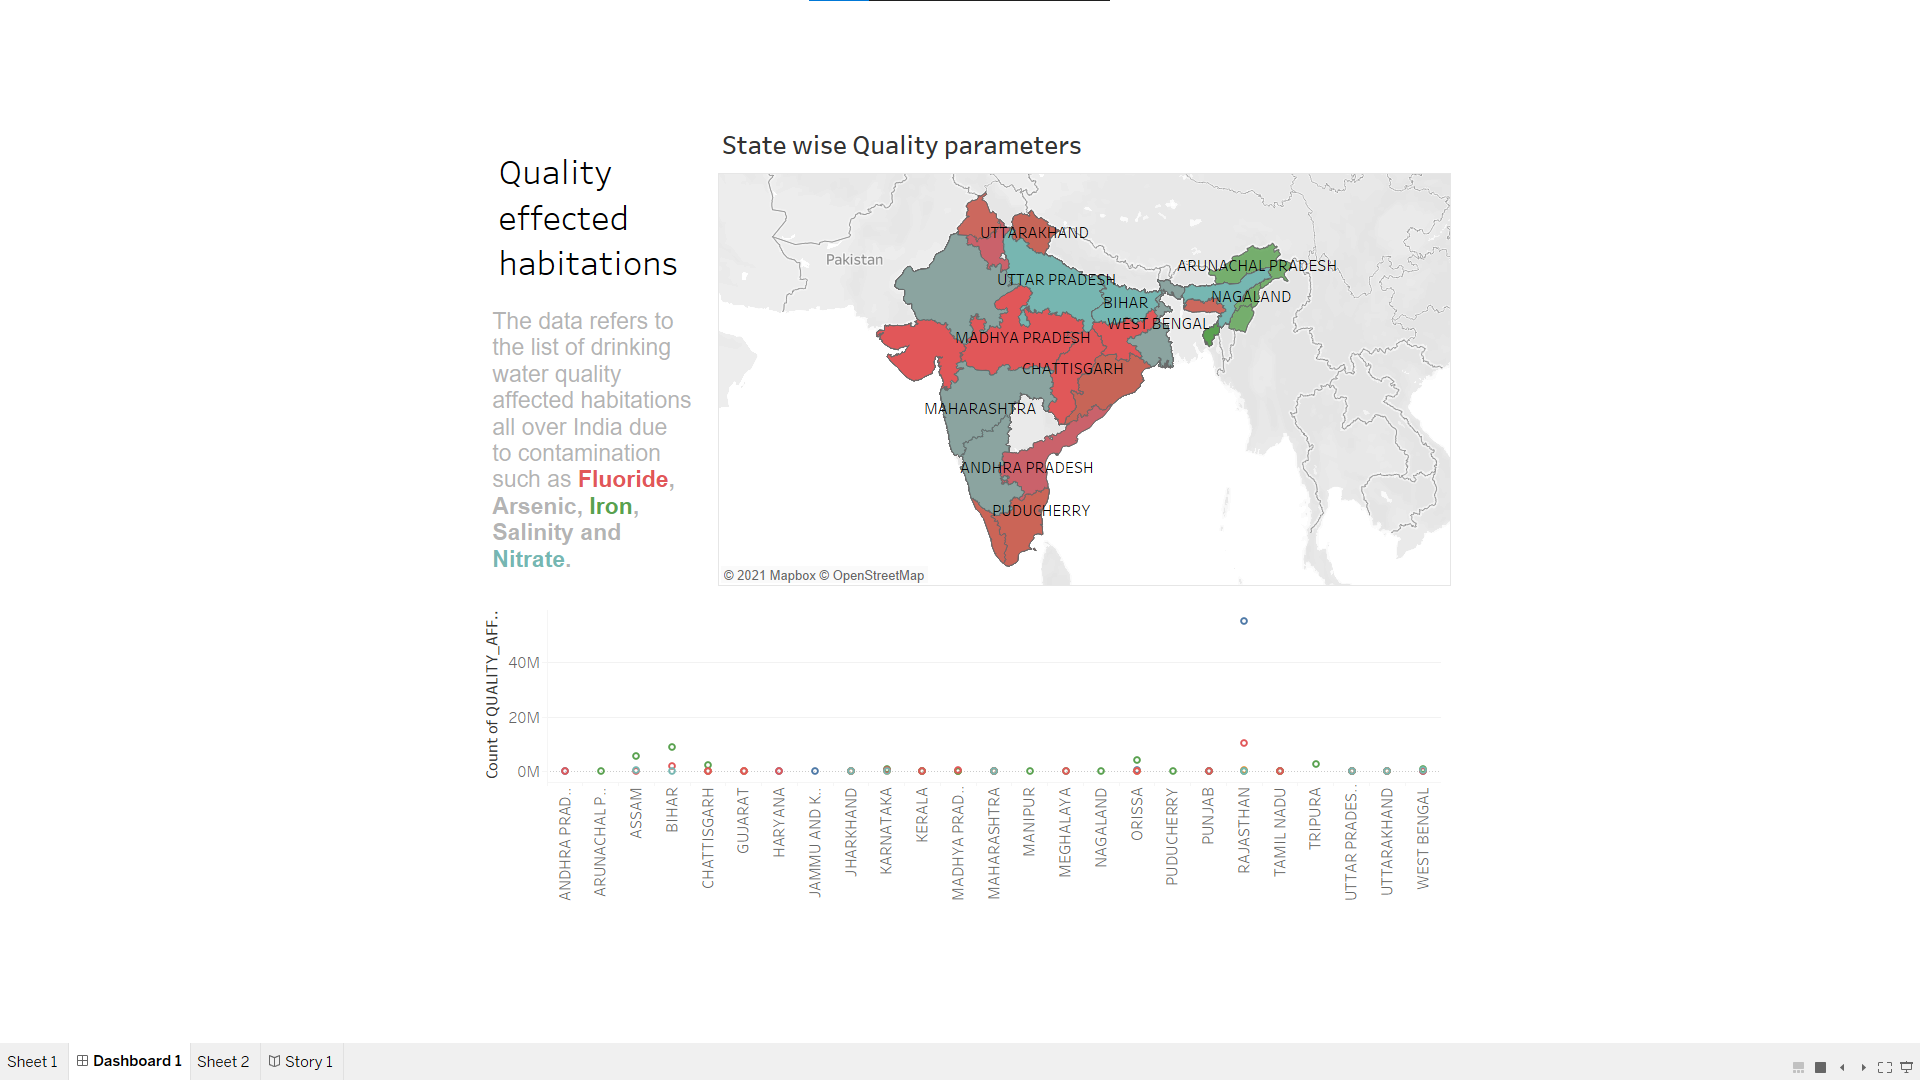

What the dashboard file says about the page in this screenshot:
{"tool":"tableau","page":{"name":"Dashboard 1","canvas":[1000,800],"ordinal":0},"visuals":[{"type":"worksheet","title":"Sheet 1","mark":"Multipolygon","box":[258,2,733,463]},{"type":"worksheet","box":[35,25,195,142]},{"type":"worksheet","box":[29,185,206,273]},{"type":"worksheet","title":"Sheet 2","mark":"Shape","cols":["State Name"],"box":[14,474,967,307]}]}

Visuals, with their boxes on the page's 1000x800 design canvas (x1, y1, x2, y2). These are canvas units, not pixel positions in the 1920x1080 screenshot, which may show the page scaled, cropped or inside an application window:
"Sheet 1" worksheet (Multipolygon marks): bbox=(258, 2, 991, 465)
worksheet: bbox=(35, 25, 230, 167)
worksheet: bbox=(29, 185, 235, 458)
"Sheet 2" worksheet (Shape marks): bbox=(14, 474, 981, 781)
